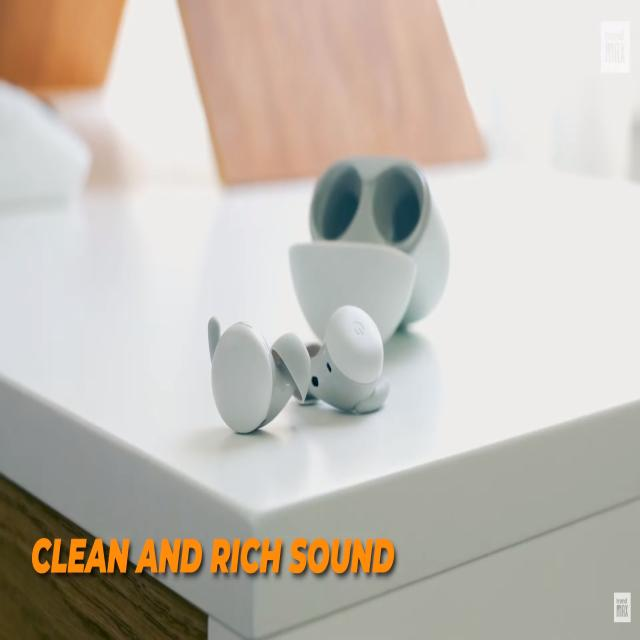airpods: (284, 150, 455, 342), (203, 299, 392, 436)
